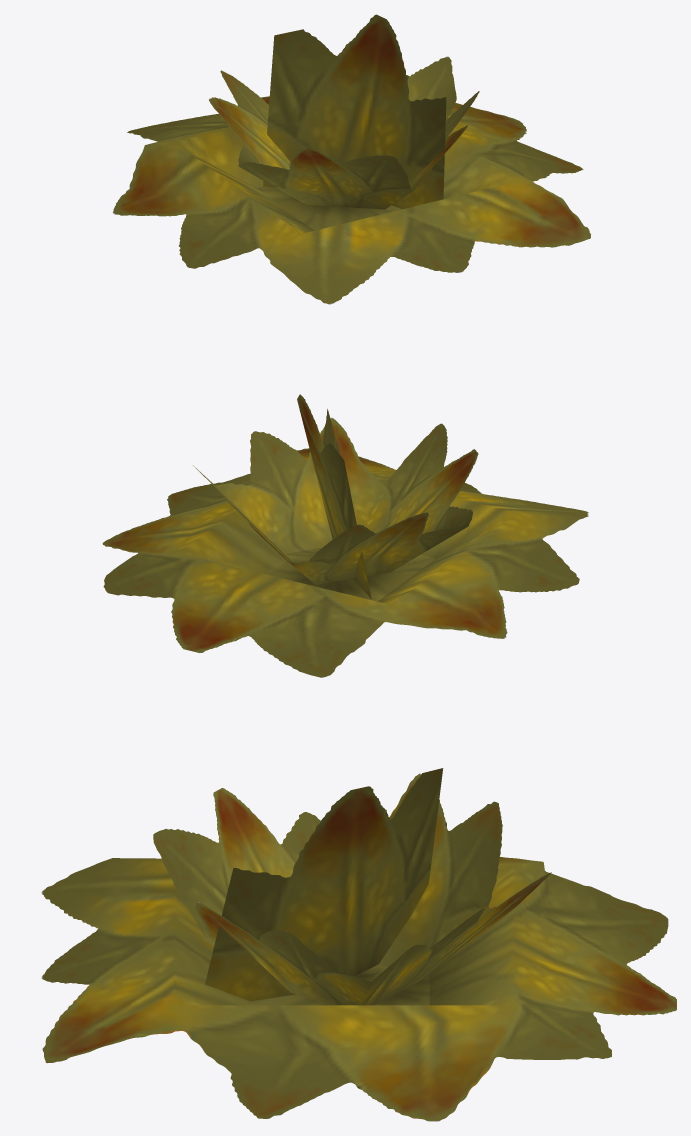
File: plantA.fbx
3 views of the same model, one above another, from view 1: azimuth 30°, elevation 25°; view 2: azimuth 150°, elevation 25°; view 3: azimuth 270°, elevation 25° (orthographic). The views are drawn at different scales.
Visible parts, largest first — view 1: plantA; view 2: plantA; view 3: plantA.
Boxes of the visible parts, x1,y1,x2,y2 form: plantA: [112, 14, 590, 304]; plantA: [102, 394, 588, 677]; plantA: [41, 768, 676, 1121].
Bounding box in the file's own units: 144 × 55.06 × 147.
1 material, 1 textured.
